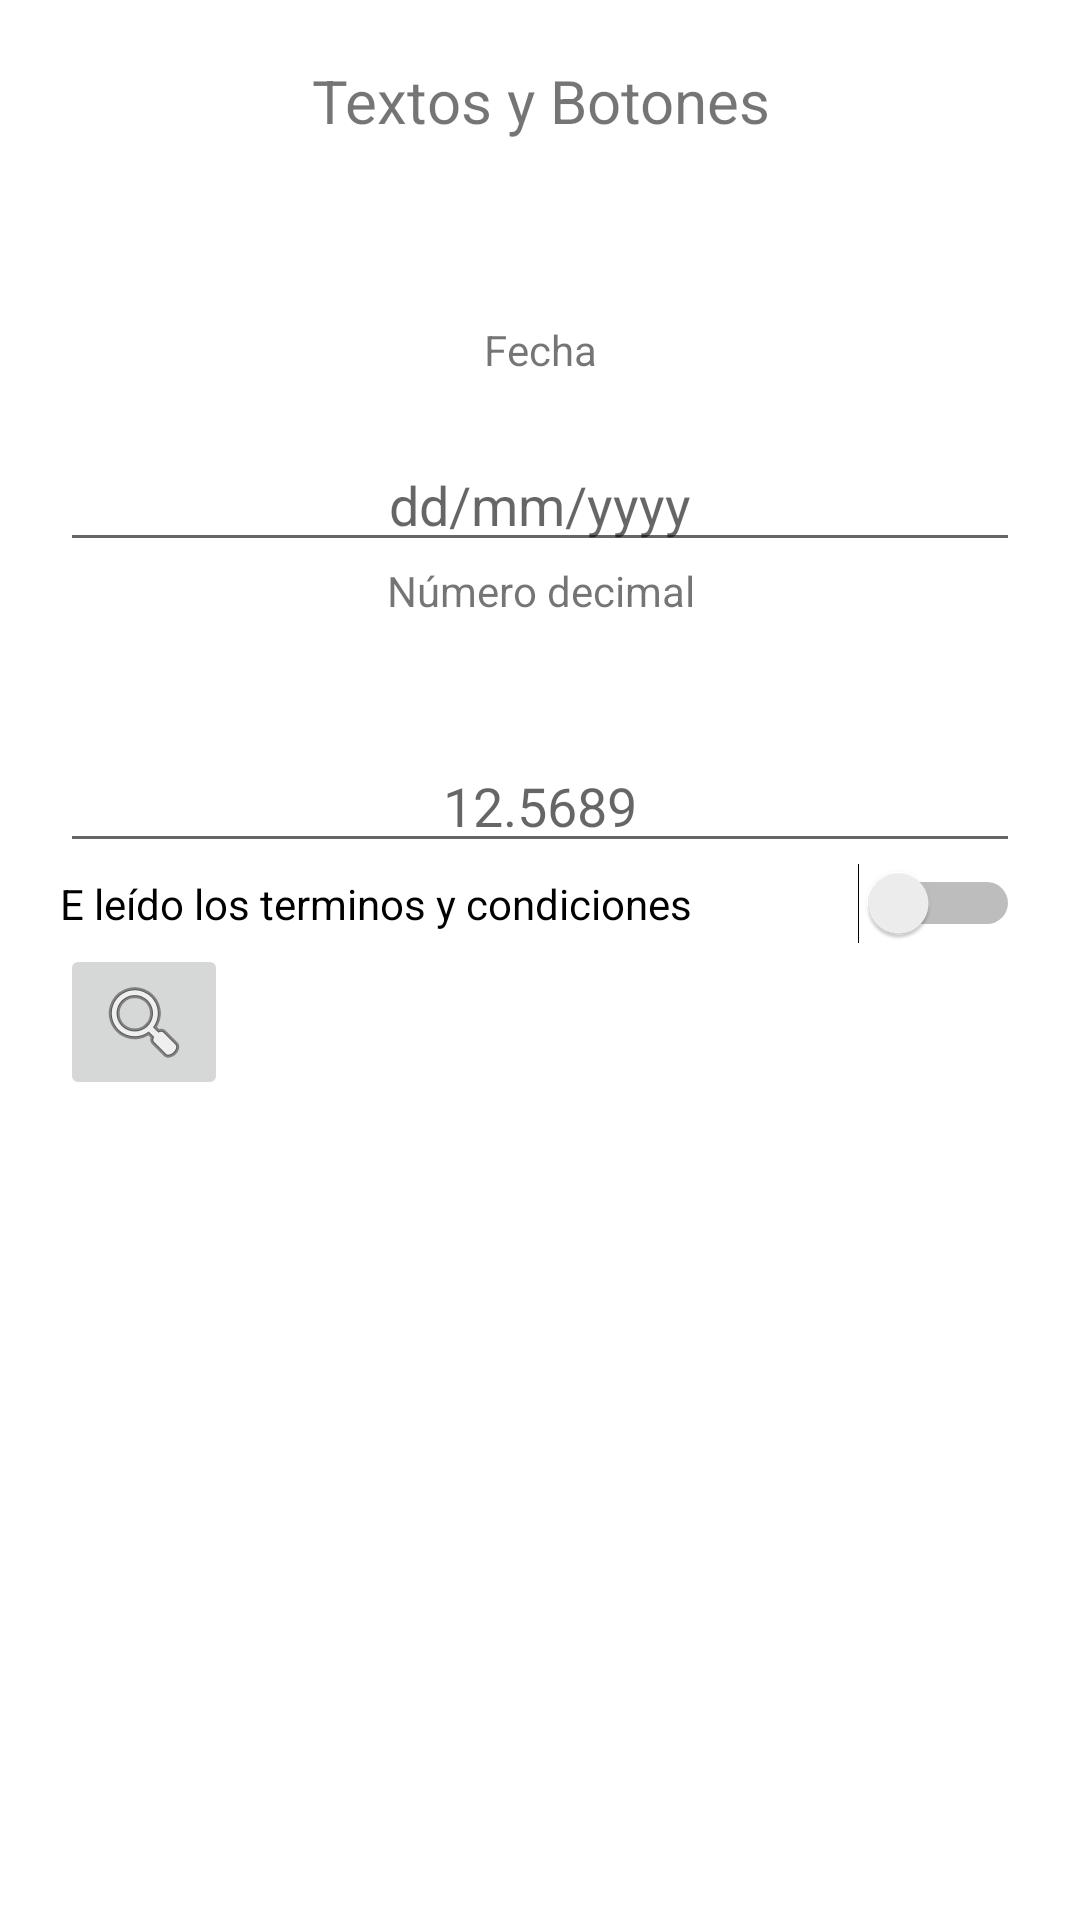

Icon bounding boxes for this 1080*1920 phone screenshot, format (x1, y1, x2, y2):
search: (72, 962, 216, 1082)
